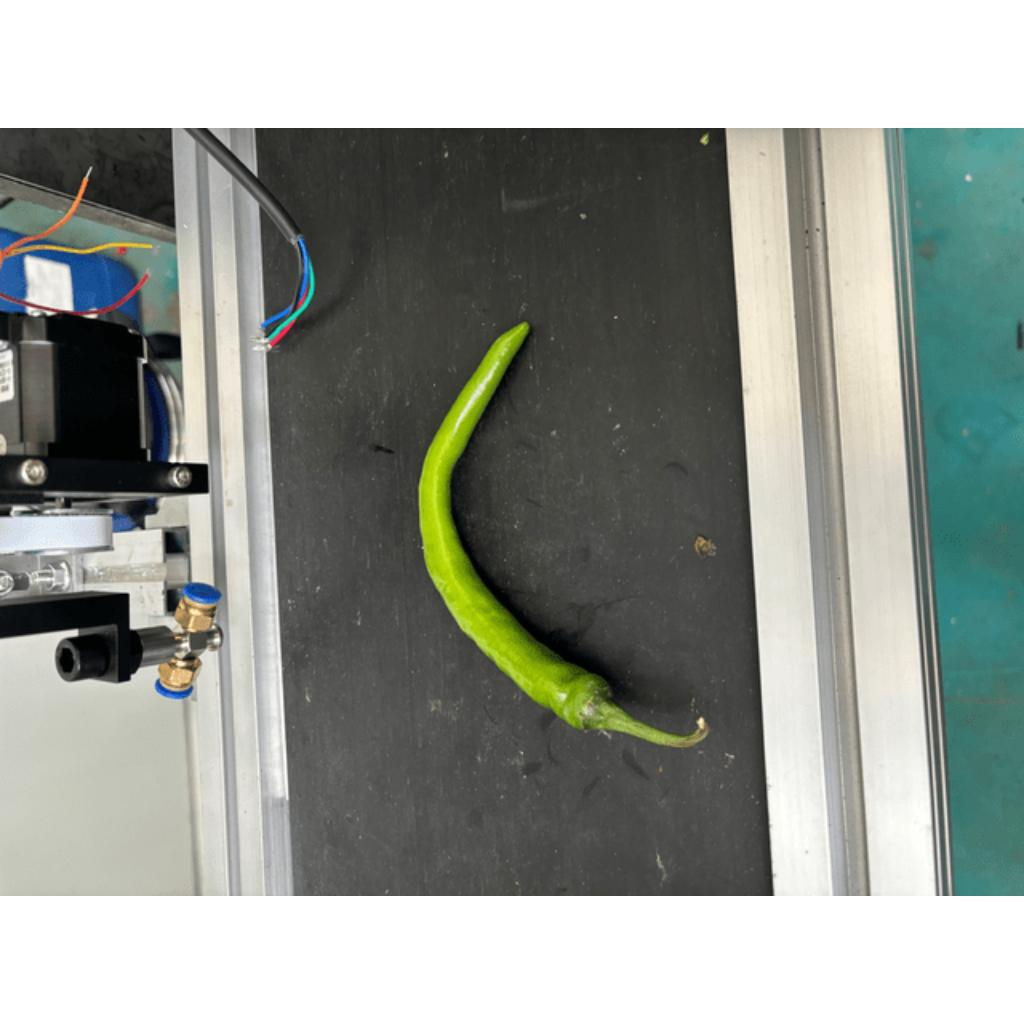chili: (414, 319, 616, 729)
